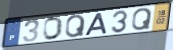3: (110, 9, 129, 34), (22, 19, 41, 43)
A: (83, 12, 109, 37)
O: (42, 16, 64, 41)
Q: (130, 7, 153, 32), (65, 13, 87, 39)
